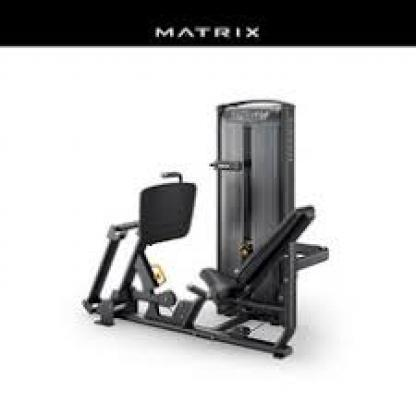leg press: (70, 89, 339, 366)
